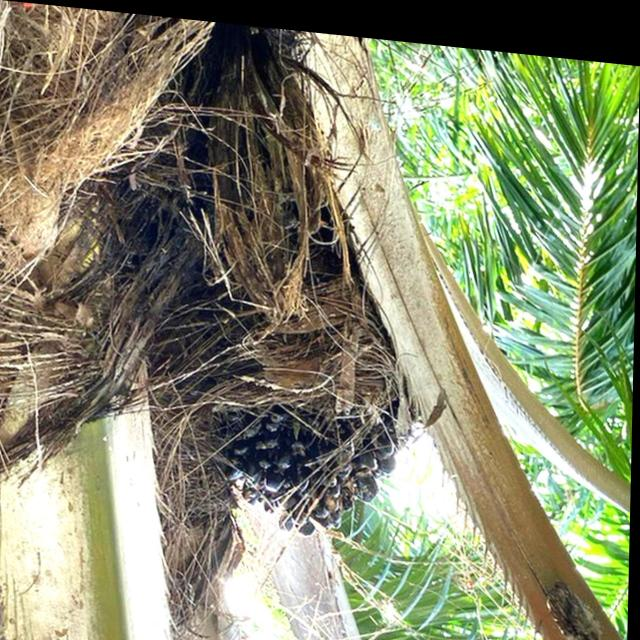unripe: (209, 317, 421, 562)
